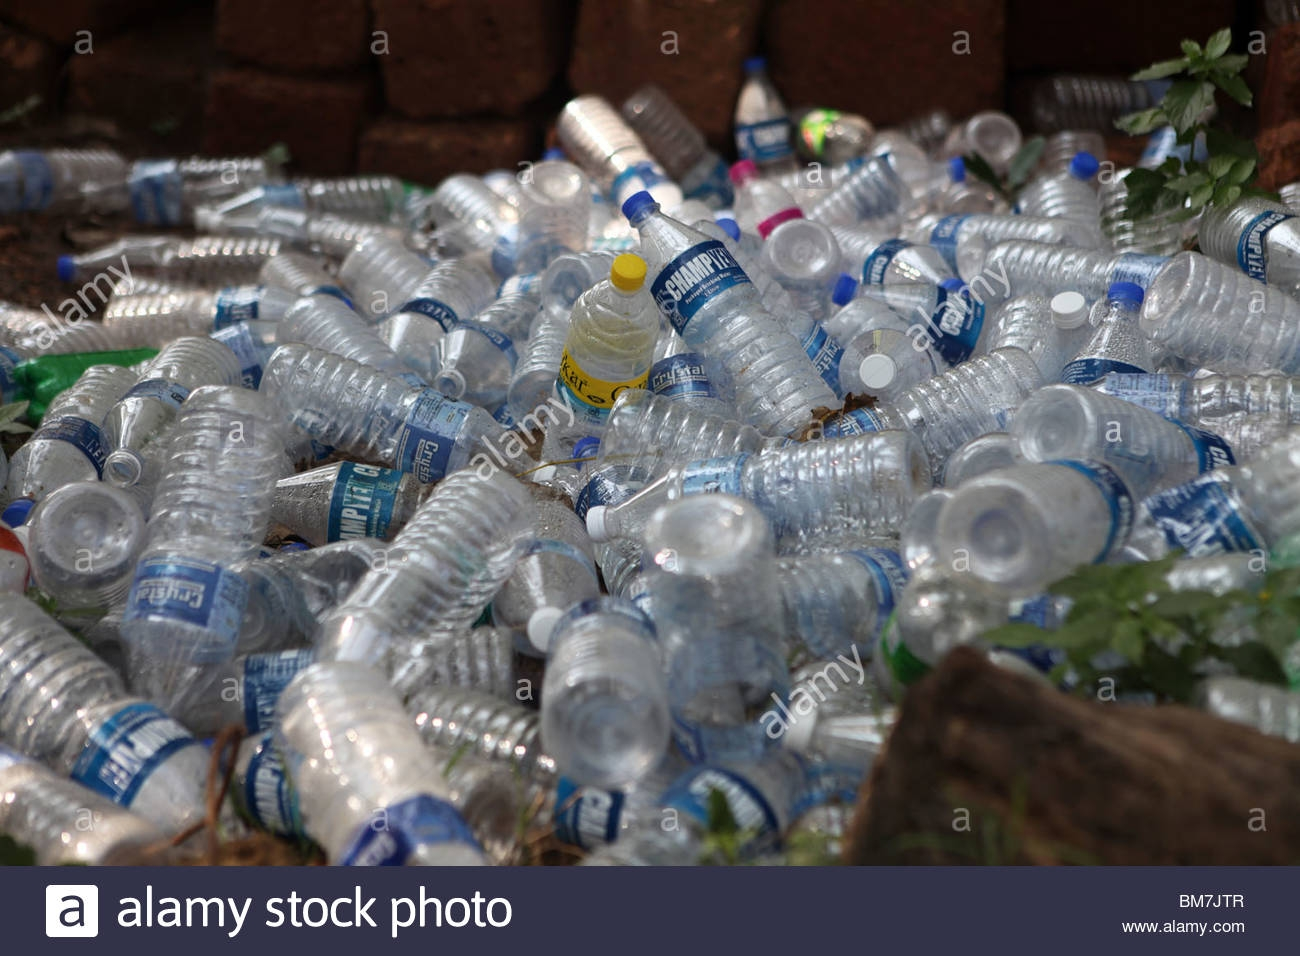plastic: (100, 364, 307, 731), (1, 581, 251, 860), (616, 179, 843, 444), (303, 440, 534, 692), (634, 495, 820, 773), (274, 661, 496, 871), (248, 345, 548, 479), (798, 327, 1055, 483), (518, 573, 688, 800), (915, 456, 1161, 605), (534, 240, 668, 498), (998, 381, 1265, 509), (1, 345, 137, 534), (1122, 243, 1300, 383), (375, 238, 506, 388), (276, 289, 434, 398)
